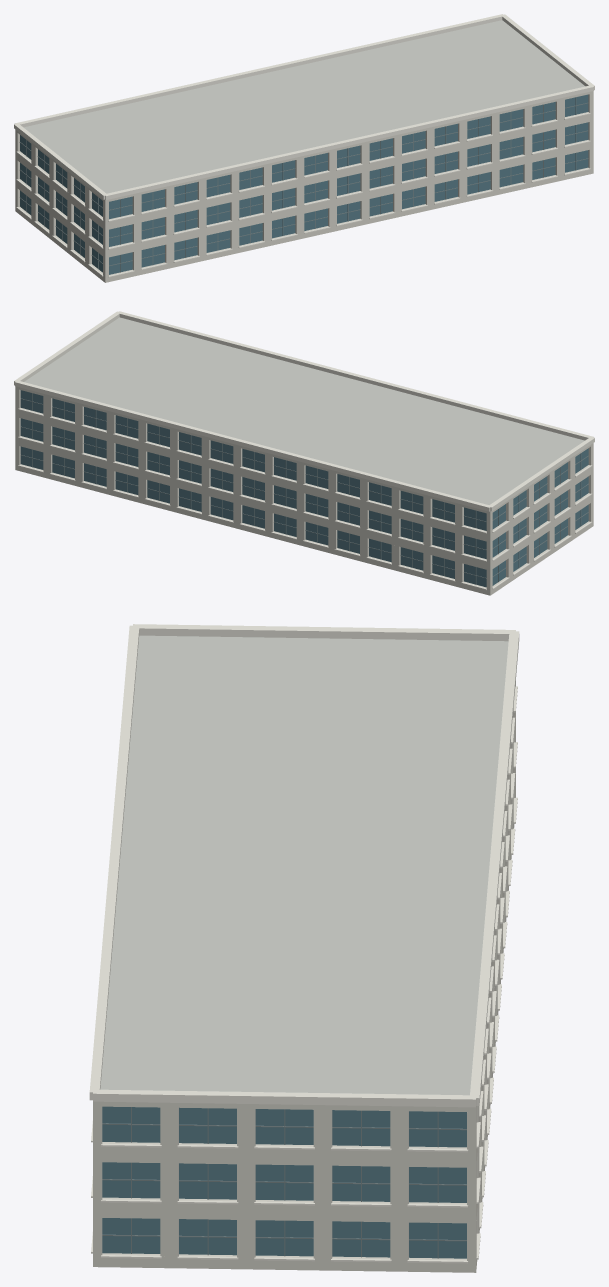
3 renders of one model, top to bottom at view 1: azimuth 30°, elevation 25°; view 2: azimuth 150°, elevation 25°; view 3: azimuth 270°, elevation 25°, orthographic. The views are drawn at different scales.
Parts seen in each view (by area): view 1: roof, wall, glass, trim, metal; view 2: roof, wall, glass, trim, metal; view 3: roof, wall, glass, trim, metal.
Part boxes in pixels (box(x1,y1,x2,y2)): roof: box(24, 20, 585, 193); wall: box(15, 91, 593, 282); glass: box(20, 94, 588, 274); trim: box(14, 14, 594, 277); metal: box(19, 97, 588, 272); roof: box(24, 317, 584, 504); wall: box(15, 386, 593, 595); glass: box(20, 390, 588, 587); trim: box(14, 311, 594, 589); metal: box(20, 393, 588, 584); roof: box(100, 635, 508, 1095); wall: box(93, 681, 515, 1272); glass: box(102, 1106, 466, 1258); trim: box(89, 624, 519, 1263); metal: box(102, 1107, 466, 1258).
Bounding box in the file's own units: 56.83 × 9.74 × 21.71.
